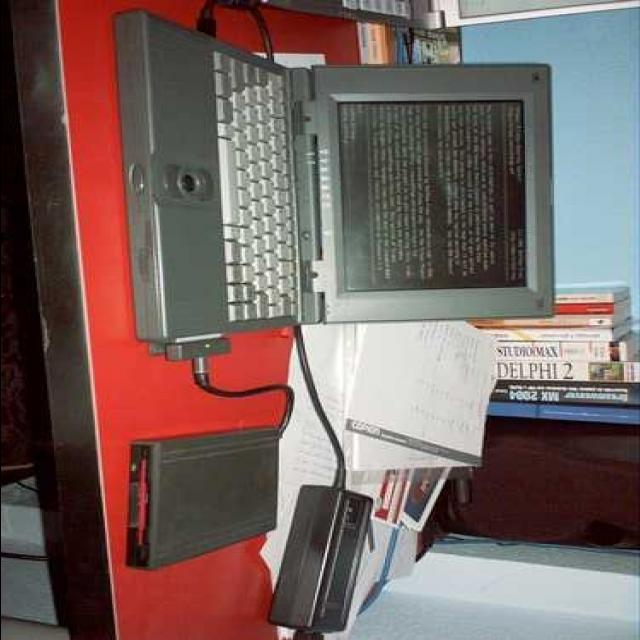laptop: (127, 48, 552, 336)
